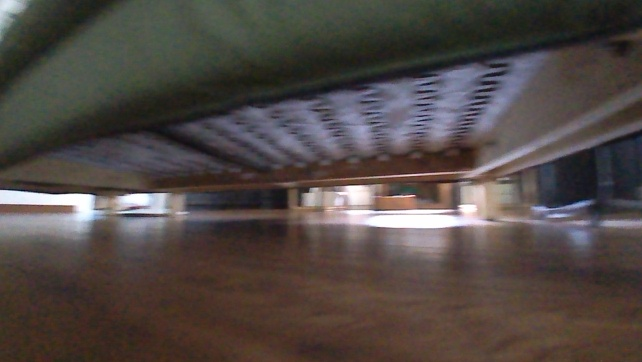sofa1: (0, 0, 641, 221)
